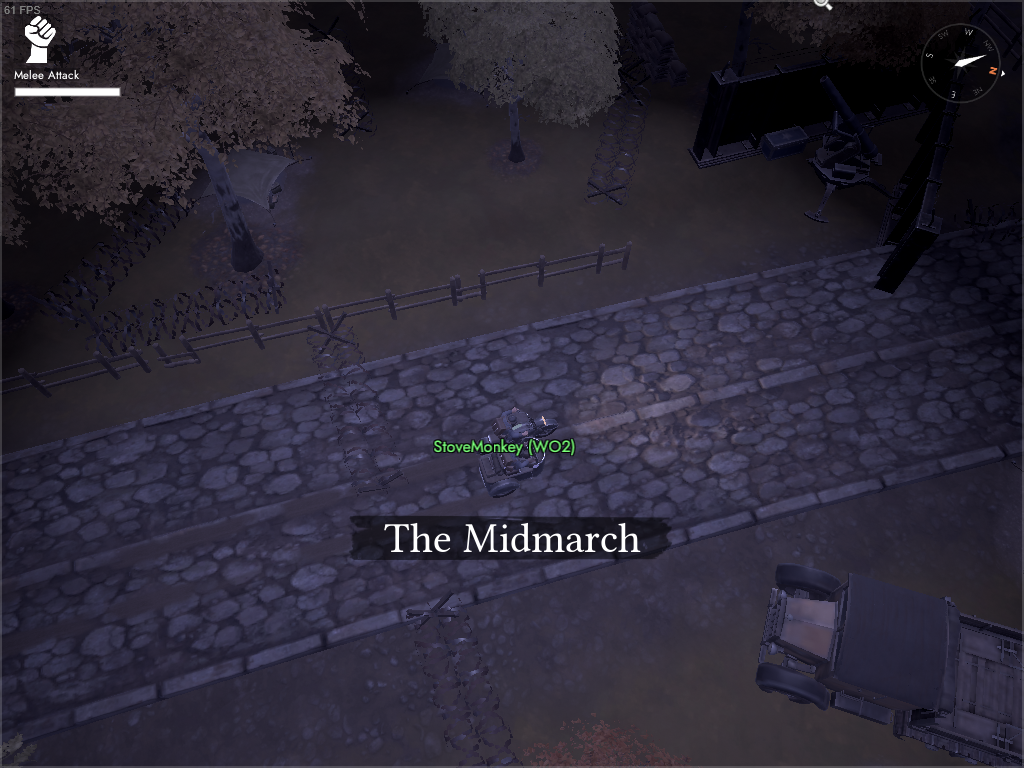flatbed: (751, 557, 1024, 766)
fortified_wall: (683, 27, 951, 172), (871, 31, 976, 298)
foxhole: (183, 126, 321, 234), (401, 31, 522, 117)
howitzer: (778, 68, 918, 228)
motorcycle: (470, 405, 562, 498)
player: (489, 404, 534, 445), (492, 439, 539, 478)
sandbag: (603, 1, 691, 93)
storage_box: (759, 121, 814, 165)
wire: (38, 180, 212, 330), (405, 587, 530, 768), (299, 315, 418, 504), (79, 263, 294, 364), (581, 60, 668, 211), (306, 29, 381, 144), (585, 1, 660, 79)
